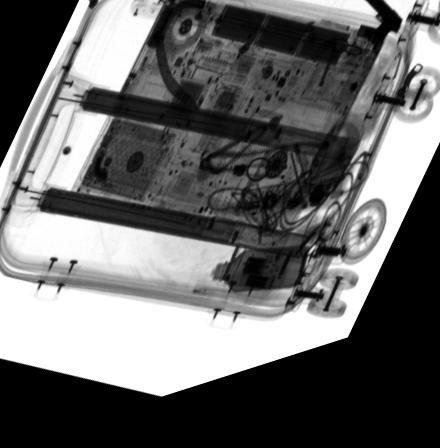Gun: (361, 10, 404, 70)
